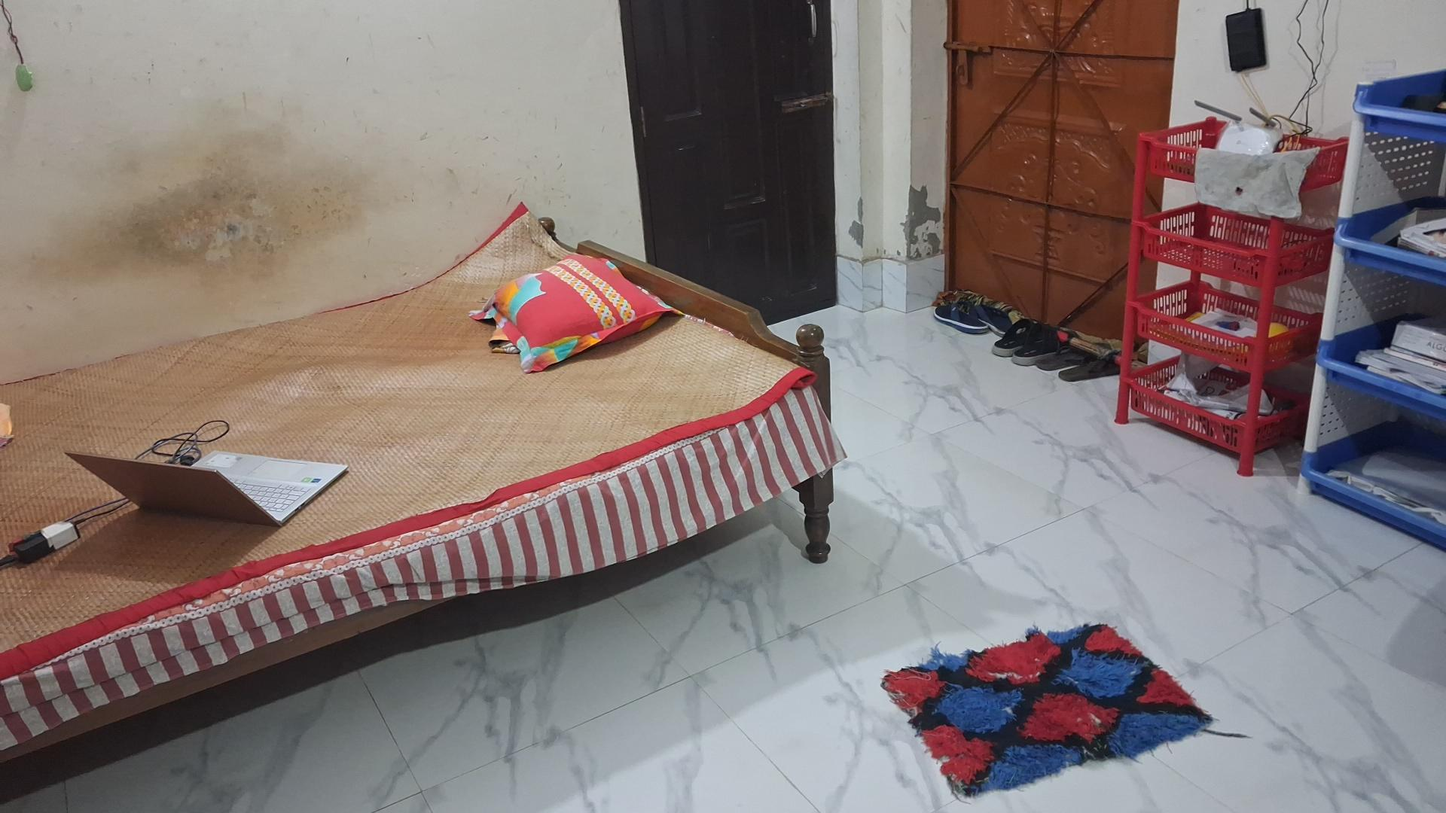Door: (941, 2, 1179, 372), (617, 2, 858, 326)
Floor Mat: (881, 621, 1214, 800)
Footwear: (992, 316, 1086, 363), (1038, 346, 1127, 383), (933, 298, 1012, 334)
Laptop: (67, 438, 346, 536)
Pillow: (476, 261, 677, 366)
Rack: (1122, 110, 1343, 477), (1309, 74, 1446, 536)
